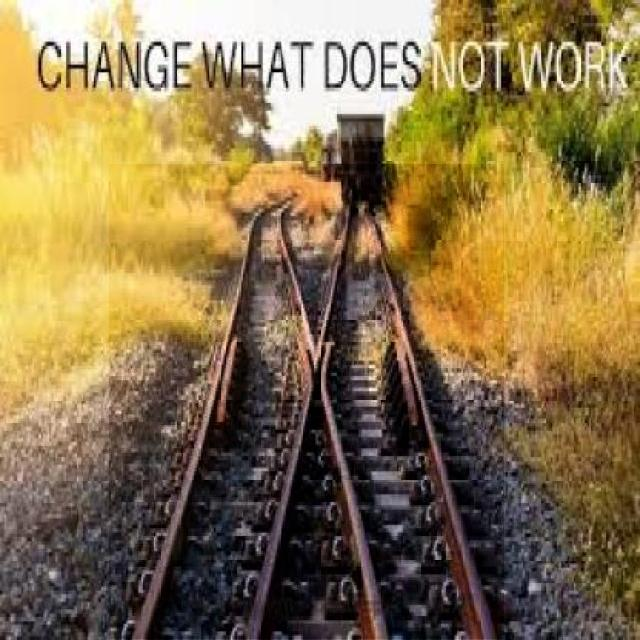rail: (110, 166, 505, 640)
